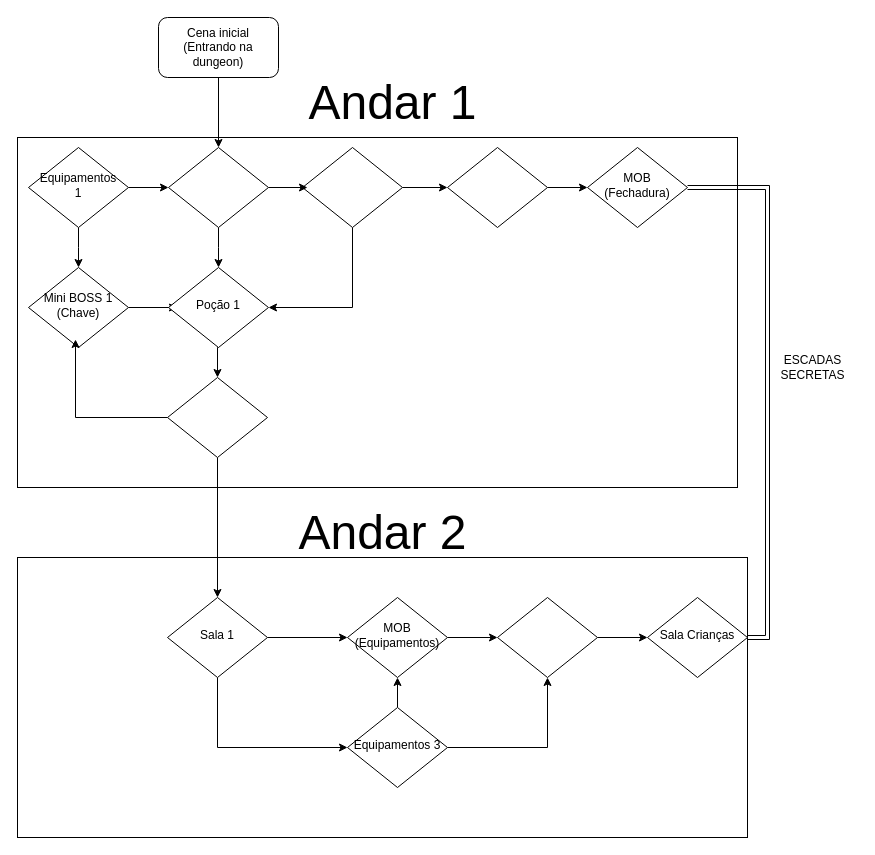
This 875x855 diagram has some shape labels left out. Here are the shapes that lost their labels. From the top down, the centre of each, then its label:
(x=218, y=187): Salão de entrada
(x=352, y=187): MOB
(x=497, y=187): Poção 2
(x=217, y=417): Equipamentos 2
(x=547, y=637): BIG BAD BOSS
